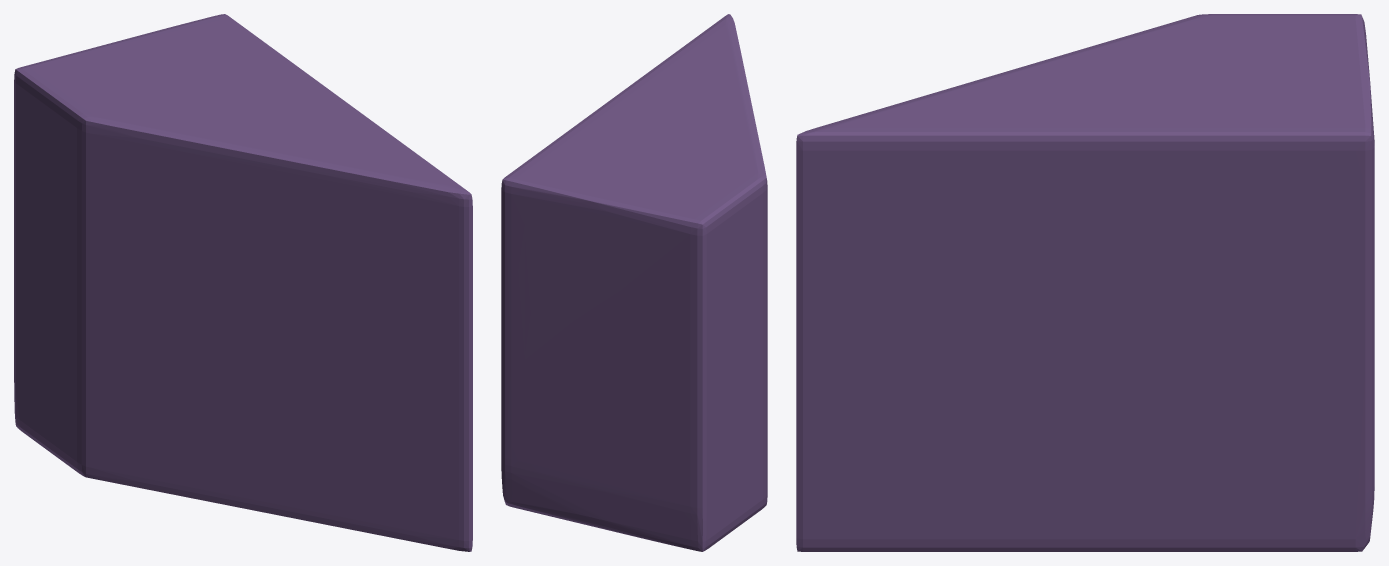
The model's file is left_elbow_link_part_1.obj.
3 views of the same model, side by side, from view 1: azimuth 30°, elevation 25°; view 2: azimuth 150°, elevation 25°; view 3: azimuth 270°, elevation 25° (orthographic). The views are drawn at different scales.
Size of the model in its own units: 0.0117 by 0.0184 by 0.023.
